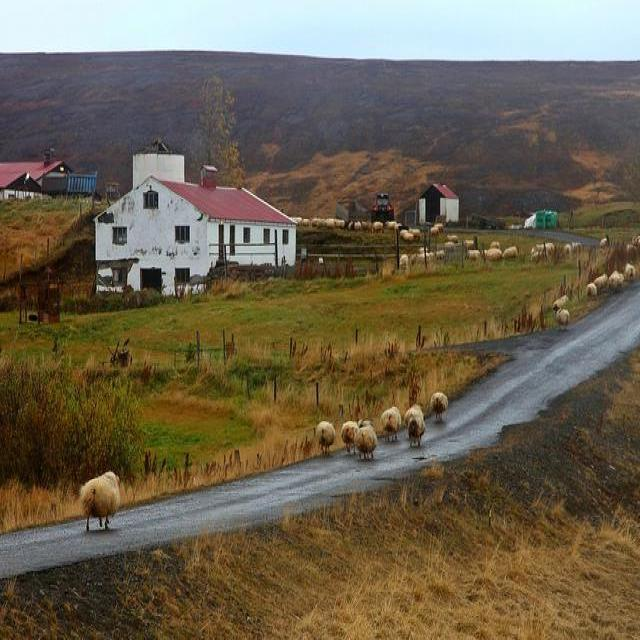Sheep: (287, 204, 639, 428), (82, 470, 119, 532)
